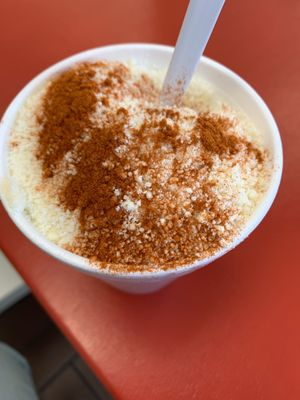burger: (159, 0, 227, 106)
salad: (157, 0, 227, 106)
sushi: (1, 34, 294, 296)
